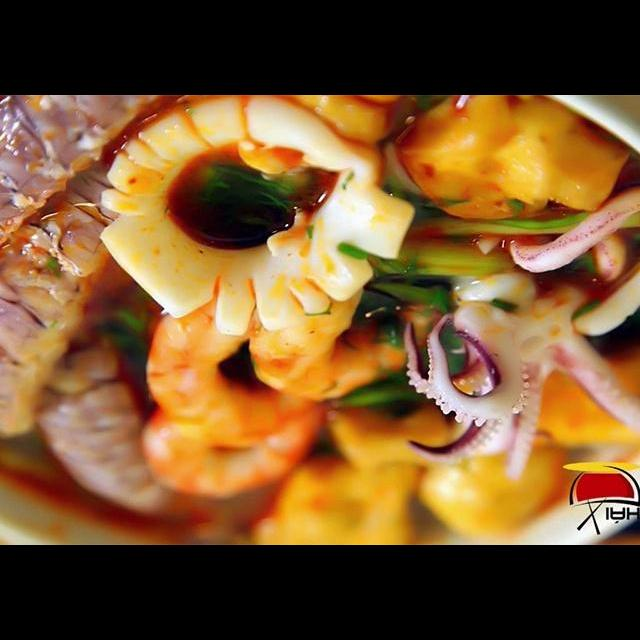muc: (93, 96, 420, 340), (397, 181, 640, 481)
tom: (140, 278, 351, 452), (242, 258, 460, 406), (136, 375, 344, 502)
tom tit: (27, 308, 281, 520), (0, 126, 163, 444), (0, 96, 184, 281)
